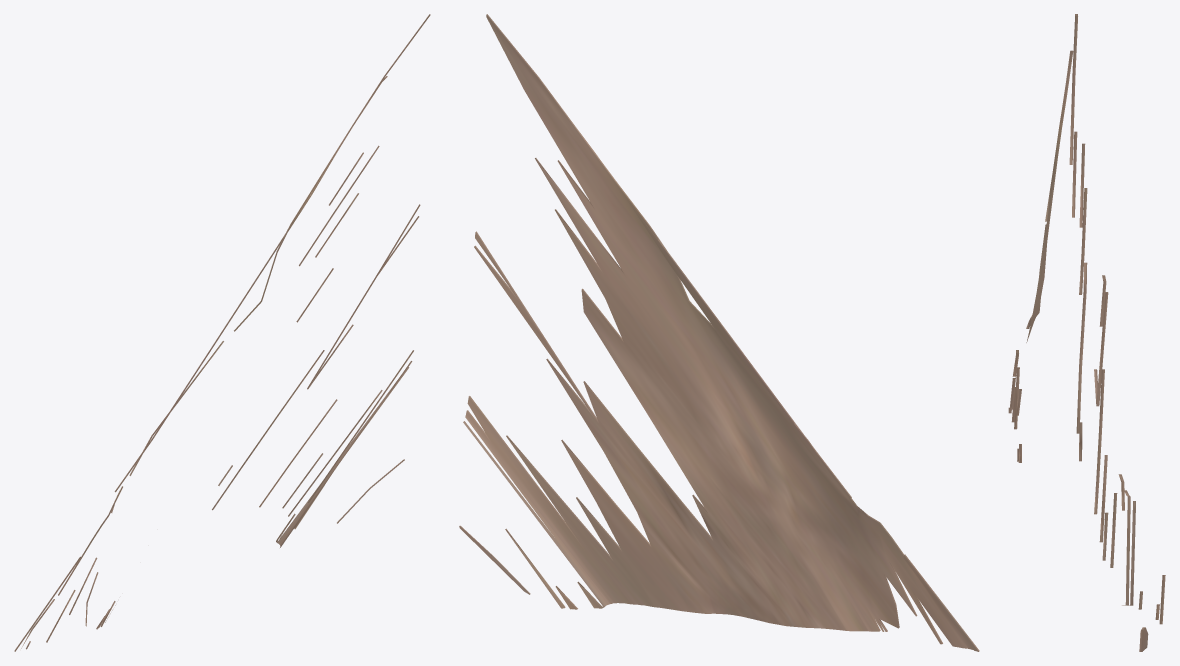
3 renders of one model, left to right at view 1: azimuth 30°, elevation 25°; view 2: azimuth 150°, elevation 25°; view 3: azimuth 270°, elevation 25°, orthographic. The views are drawn at different scales.
Size of the model in its own units: 7.31 by 8.12 by 1.71.
1 material, 1 textured.
